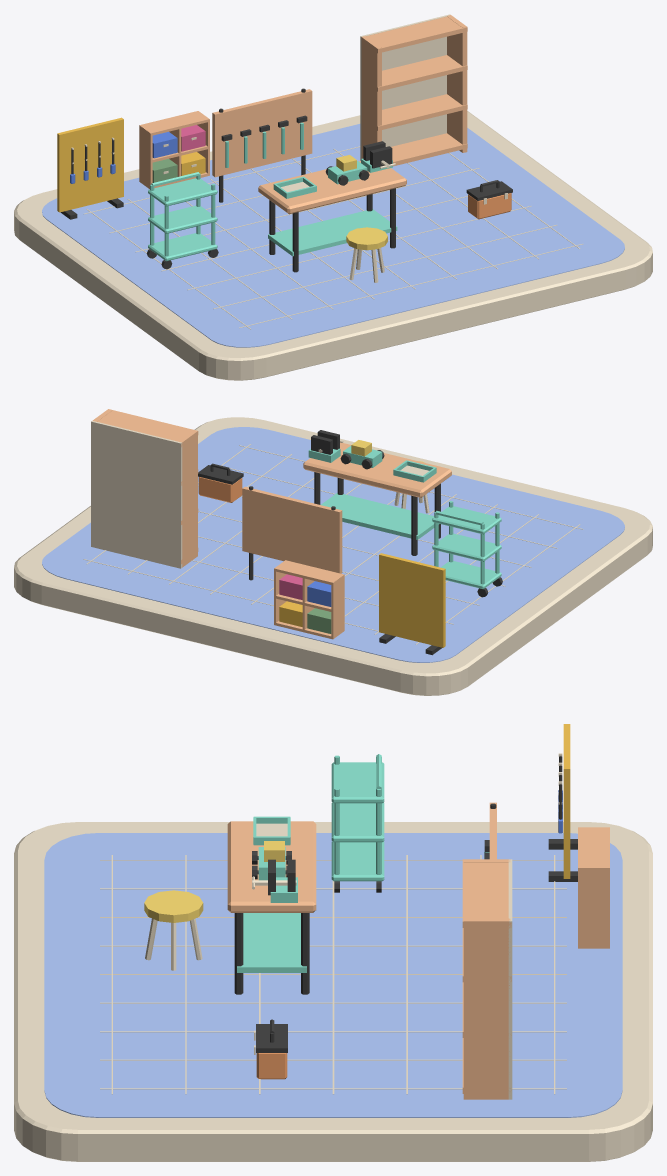
The picture shows the model from 3 angles, top to bottom: view 1: azimuth 30°, elevation 25°; view 2: azimuth 150°, elevation 25°; view 3: azimuth 270°, elevation 25°; orthographic projection. The views are drawn at different scales.
Parts seen in each view (by area): view 1: COM-02 Floor Surface, COM-01 Rounded Base Direct, Peg board, Panel, Back, Worktop, Lower shelf, Side, Side.001, Shelf.003, Shelf.001, Shelf.002 (+10 smaller); view 2: COM-02 Floor Surface, COM-01 Rounded Base Direct, Back, Peg board, Panel, Worktop, Lower shelf, Side, Shelf.003, Tray.001, Tray.002, Tray (+8 smaller); view 3: COM-02 Floor Surface, COM-01 Rounded Base Direct, Side.001, Worktop, Lower shelf, Shelf.003, Cubbies divider.002, Tray.002, Tray, Tray.001, Seat, Cubbies shelf.002 (+13 smaller).
Boxes of the visible parts, box(x1,y1,x2,y2) form: COM-02 Floor Surface: box(42, 124, 624, 347); COM-01 Rounded Base Direct: box(14, 111, 652, 380); Peg board: box(212, 89, 312, 177); Panel: box(57, 117, 123, 212); Back: box(360, 14, 450, 160); Worktop: box(258, 161, 406, 214); Lower shelf: box(268, 209, 397, 256); Side: box(361, 36, 381, 154); Side.001: box(447, 15, 467, 152); Shelf.003: box(361, 16, 467, 53); Shelf.001: box(361, 94, 467, 130); Shelf.002: box(361, 55, 467, 91); COM-02 Floor Surface: box(42, 427, 624, 662); COM-01 Rounded Base Direct: box(14, 417, 652, 695); Back: box(91, 420, 182, 568); Peg board: box(242, 486, 342, 573); Panel: box(379, 553, 445, 647); Worktop: box(303, 442, 451, 497); Lower shelf: box(321, 493, 439, 539); Side: box(178, 430, 197, 567); Shelf.003: box(97, 409, 198, 447); Tray.001: box(432, 533, 501, 561); Tray.002: box(432, 506, 501, 534); Tray: box(441, 561, 501, 589); COM-02 Floor Surface: box(44, 833, 622, 1117); COM-01 Rounded Base Direct: box(14, 822, 652, 1161); Side.001: box(463, 918, 510, 1099); Worktop: box(227, 821, 316, 912); Lower shelf: box(237, 913, 306, 972); Shelf.003: box(462, 859, 511, 927); Cubbies divider.002: box(578, 868, 609, 948); Tray.002: box(331, 762, 384, 803); Tray: box(331, 841, 384, 881); Tray.001: box(331, 802, 384, 842); Seat: box(144, 890, 203, 922); Cubbies shelf.002: box(578, 827, 609, 868).
Bounding box in the file's own units: 6 × 1.9 × 5.2.
1 material, 1 textured.
